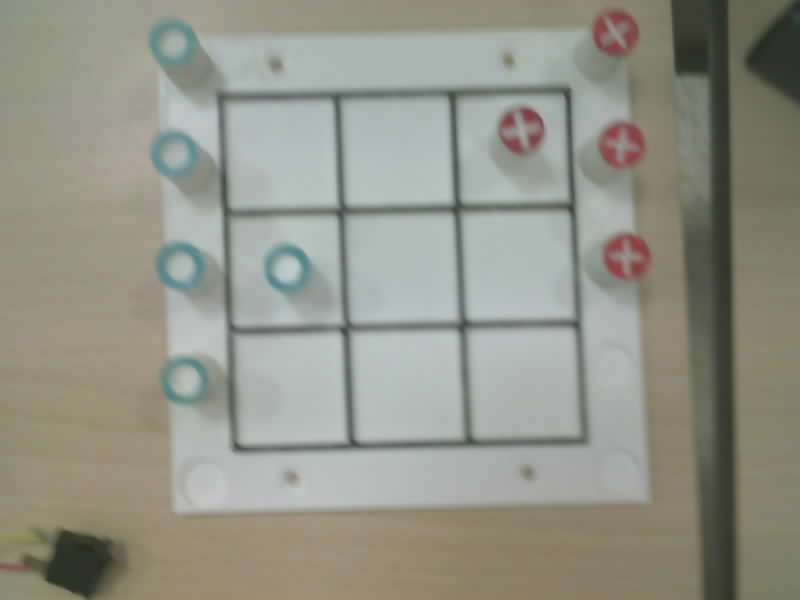blue circle: (155, 242, 204, 290), (160, 356, 208, 403), (149, 18, 196, 65), (264, 244, 310, 292), (150, 130, 197, 176)
board: (150, 11, 649, 512)
cells: (233, 332, 346, 445), (351, 329, 464, 442), (468, 327, 580, 440), (229, 215, 341, 327), (456, 92, 569, 203), (223, 99, 337, 209), (462, 210, 574, 320), (341, 95, 452, 205), (346, 213, 457, 322)
grid: (217, 86, 587, 450)
red cross: (603, 233, 651, 280), (592, 9, 639, 56), (598, 121, 645, 168), (498, 106, 544, 154)
